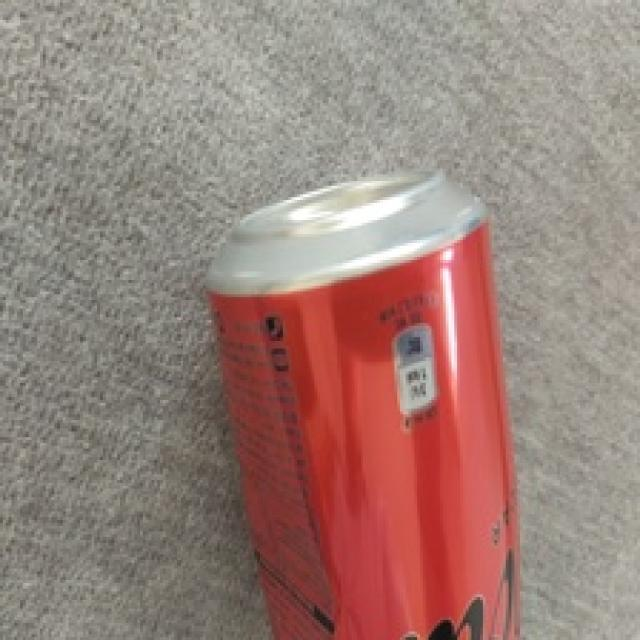recyclable: (203, 165, 523, 640)
